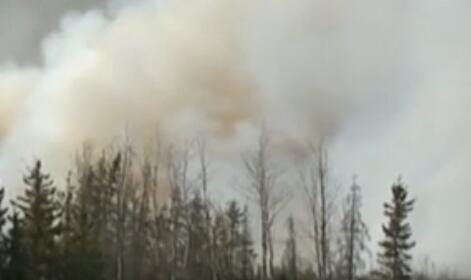yanwu: (1, 1, 471, 210)
